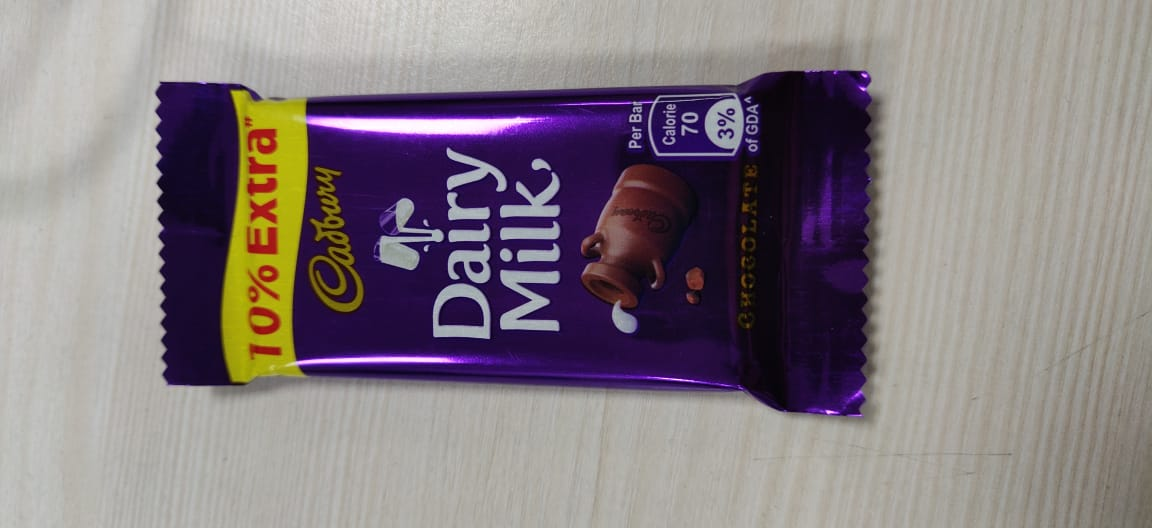dairy milk: (140, 63, 884, 429)
